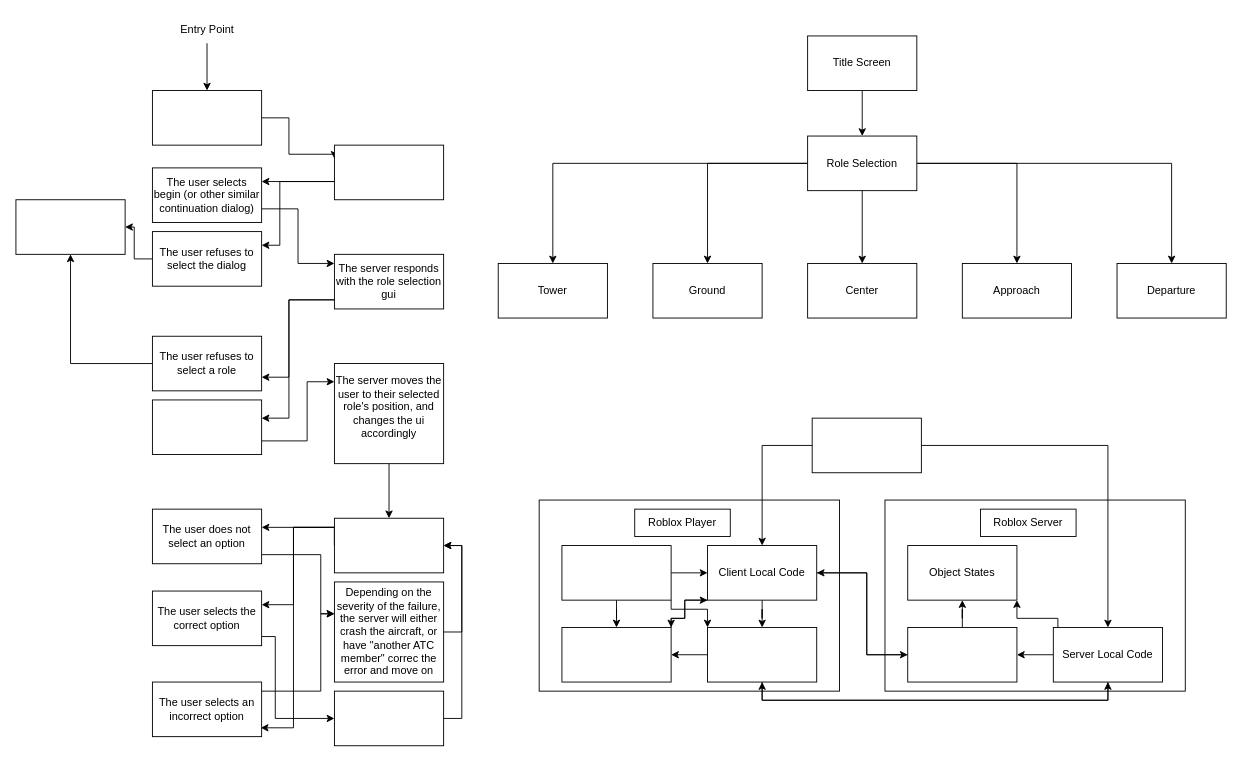
The diagram is 1242 pixels wide and 762 high, and some of its shapes have lost their labels. The centre of each missing label's shape, as x and y in pixels:
Client Remote Functions: [762,654]
Roblox kick the user for inactivity: [70,226]
Server Remote Functions: [962,654]
Server responds with the initial user gui i.e. the title screen: [389,172]
Shared Scripts: [866,445]
The flow of the aircraft continues: [389,718]
The server presents the user with a simulated pilot and a relevant situation: [389,545]
The User selects a role: [207,427]
User GUI: [616,654]
User Inputs: [616,572]
User Logs into Roblox and selects our instance: [207,117]
